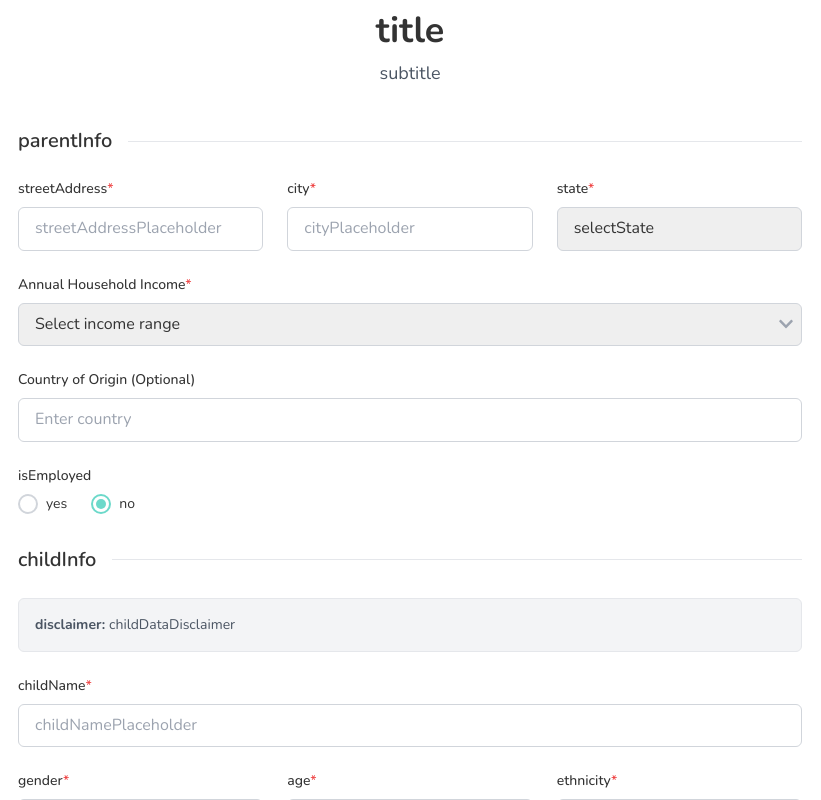
Test case: AssessYourCommunity Component › should show error when address validation fails
Note: Fill out address fields
Type "123 Invalid St" into the field labelled "streetAddress*".
click(141, 229); type("123 Invalid St")  # box [18,207,263,251]
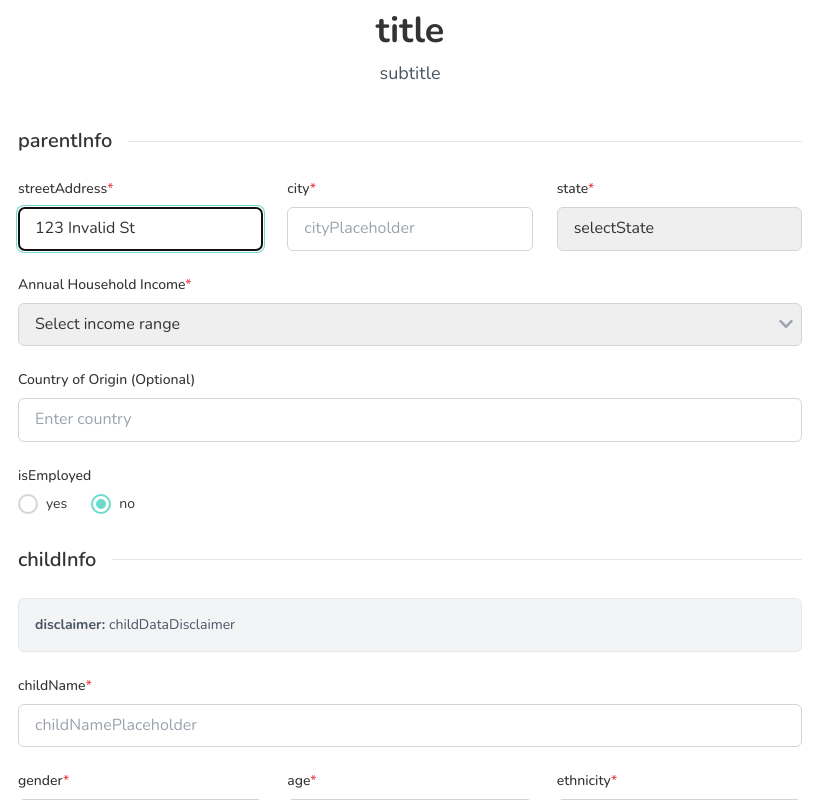
Type "Nowhere" into the field labelled "city*".
click(410, 229); type("Nowhere")  # box [287,207,533,251]
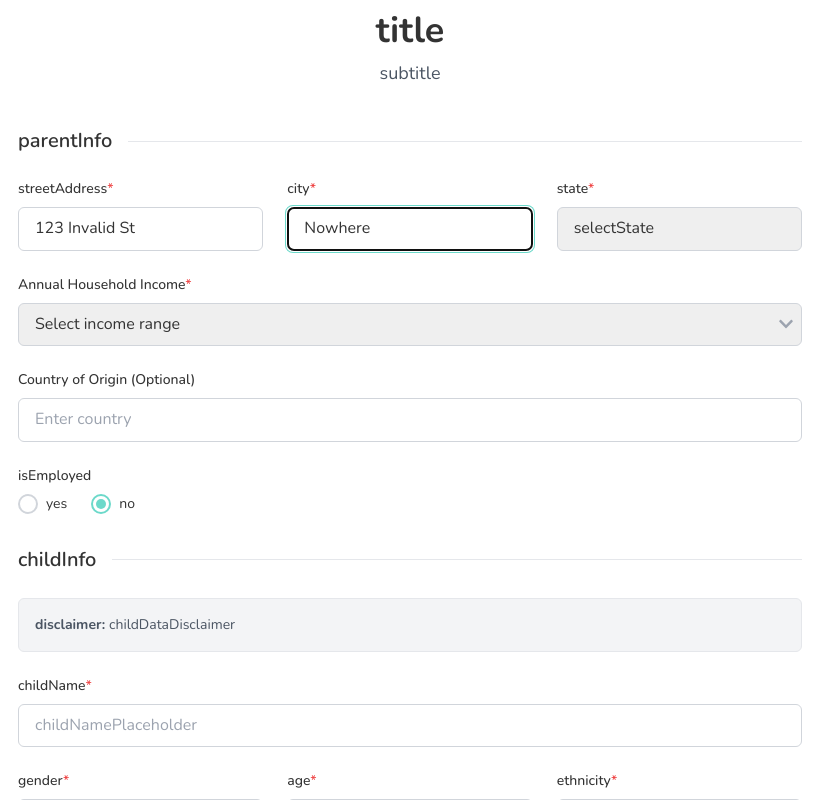
Select "New York" in the dropdown labelled "state*" at (679, 229), box [557,207,802,251]
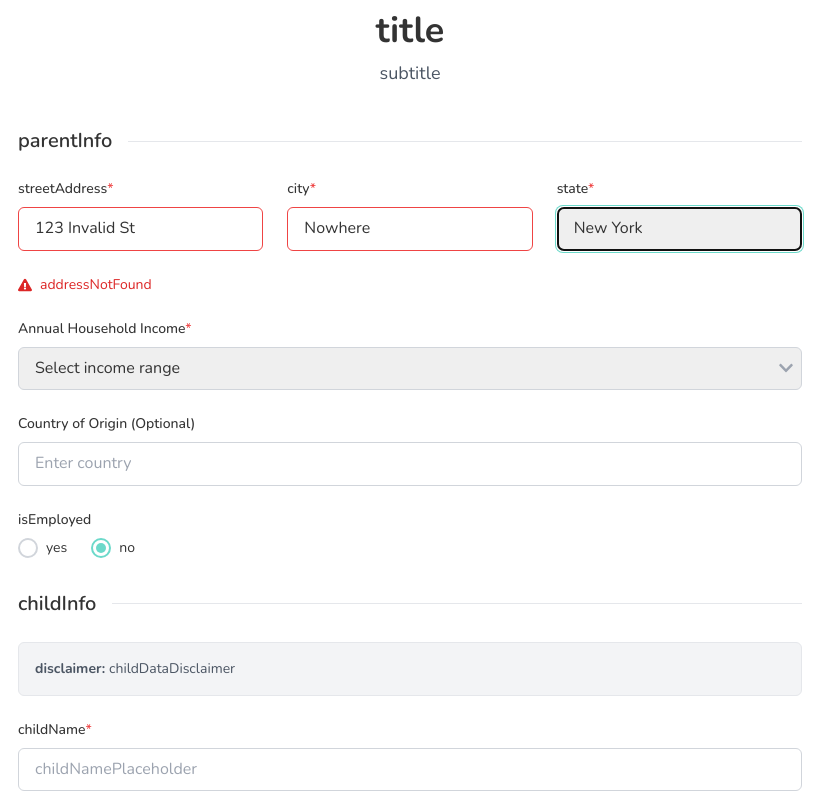
Expected: the text "addressNotFound" is shown, [18,275,152,295]
